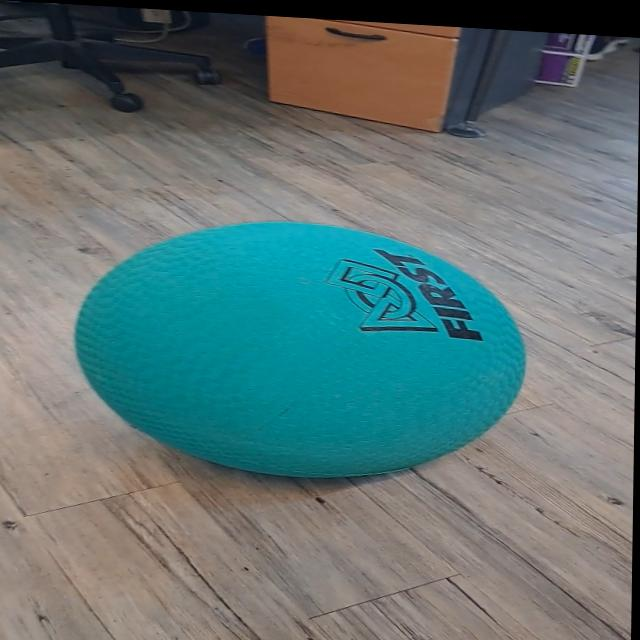ALGAE: (70, 207, 530, 492)
